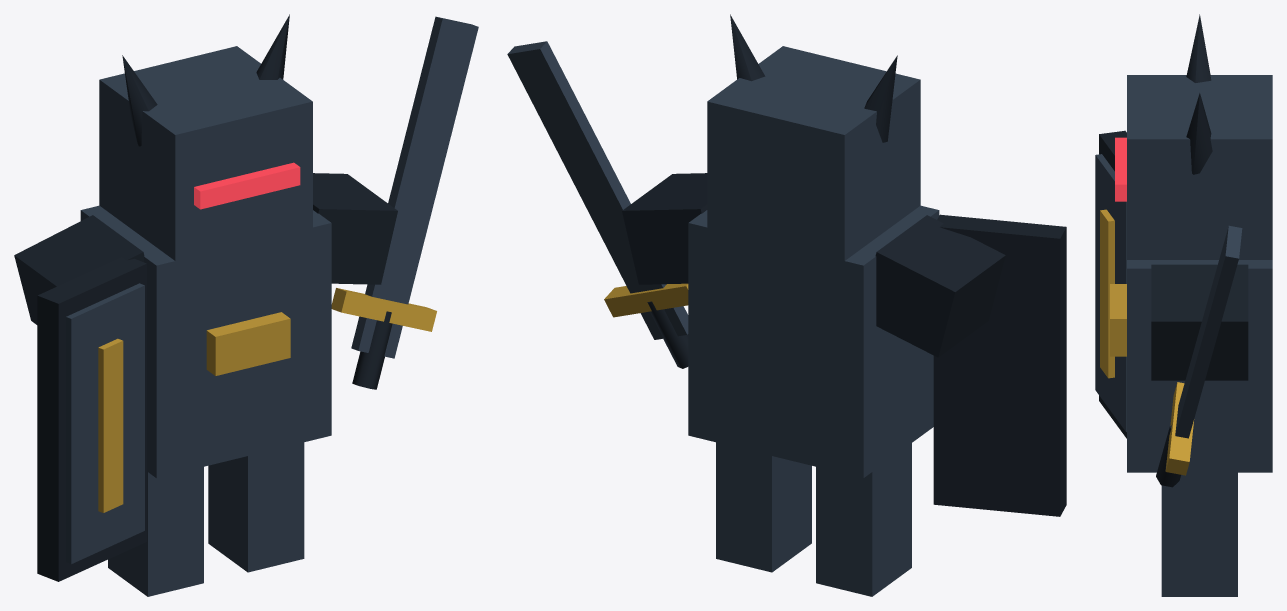
The model's file is knight.glb.
The picture shows the model from 3 angles, left to right: view 1: azimuth 30°, elevation 25°; view 2: azimuth 150°, elevation 25°; view 3: azimuth 270°, elevation 25°; orthographic projection. The views are drawn at different scales.
Visible parts, largest first — view 1: enemy_knight; view 2: enemy_knight; view 3: enemy_knight.
Boxes of the visible parts, x1,y1,x2,y2 form: enemy_knight: [14, 14, 478, 596]; enemy_knight: [507, 14, 1066, 596]; enemy_knight: [1095, 14, 1272, 596].
Bounding box in the file's own units: 1.58 × 1.62 × 0.5116.
